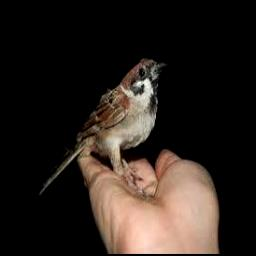Sparrow: (39, 56, 168, 193)
